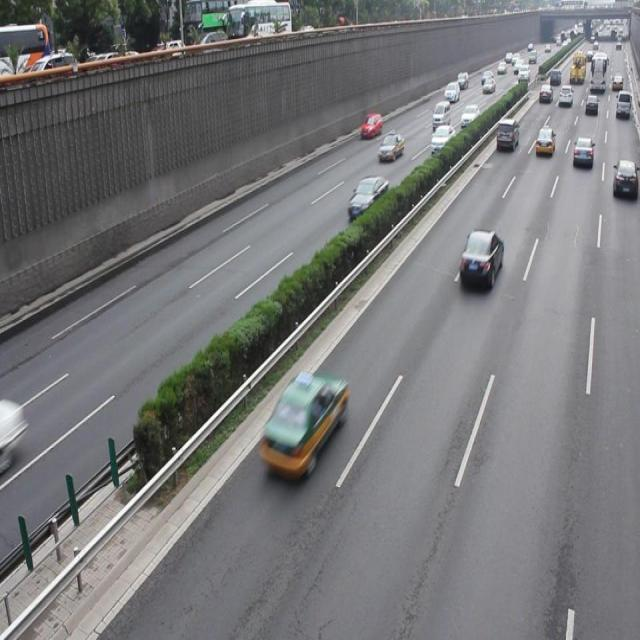car: (260, 373, 348, 478), (457, 226, 502, 288), (1, 397, 27, 474), (348, 175, 388, 217), (610, 158, 640, 198), (571, 136, 592, 170), (378, 133, 403, 161)
